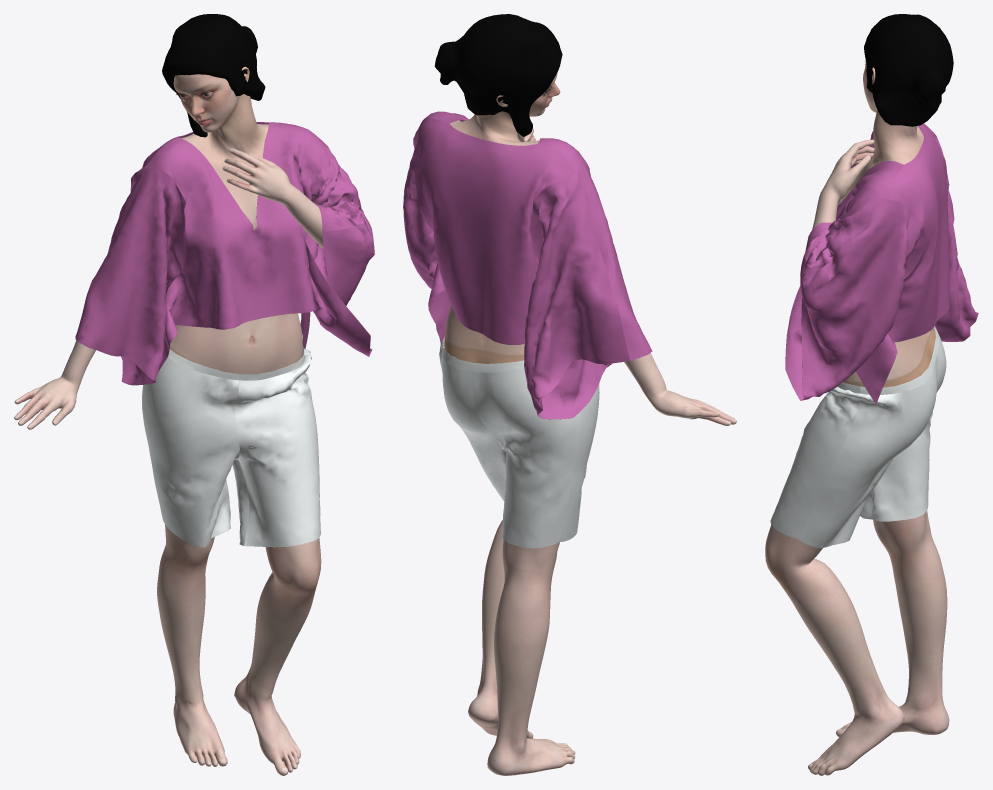
Rendered from Custom_View_1__Dramatic.obj.
The picture shows the model from 3 angles, left to right: view 1: azimuth 30°, elevation 25°; view 2: azimuth 150°, elevation 25°; view 3: azimuth 270°, elevation 25°; orthographic projection. The views are drawn at different scales.
Size of the model in its own units: 817 by 1767 by 463.
